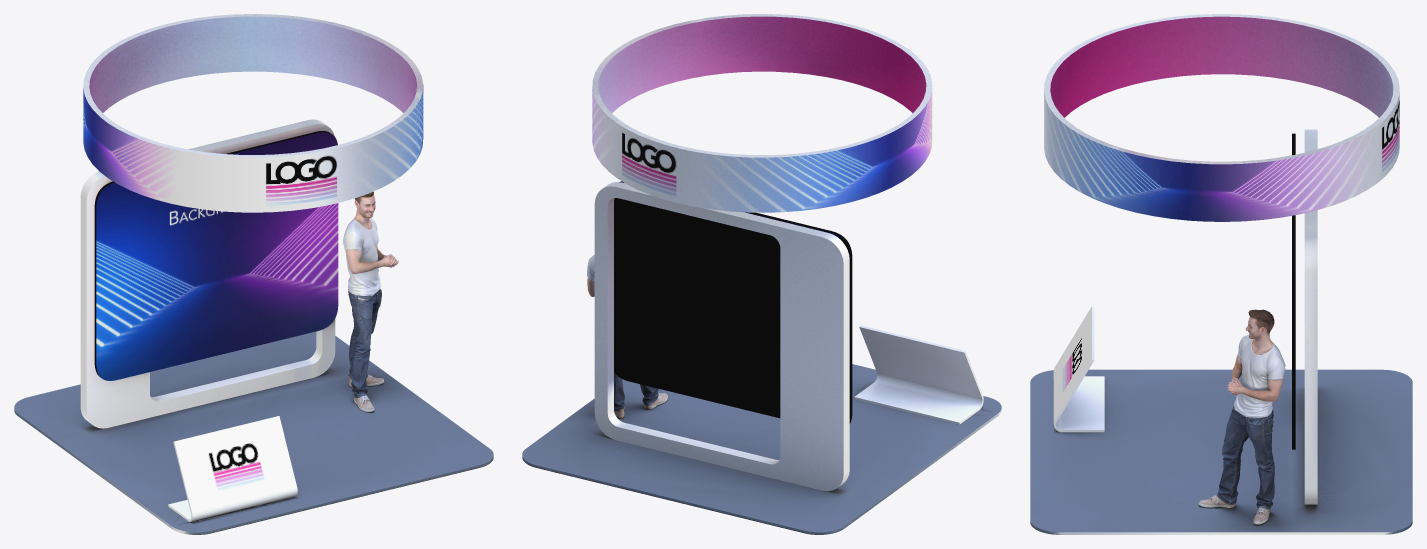
Rendered from osasto_pienempi(1).glb.
The picture shows the model from 3 angles, left to right: view 1: azimuth 30°, elevation 25°; view 2: azimuth 150°, elevation 25°; view 3: azimuth 270°, elevation 25°; orthographic projection. The views are drawn at different scales.
Parts seen in each view (by area): view 1: Shape001, Tube003, Box002, Rectangle001, Line001, RP_Man_Aaron_0402_30k; view 2: Tube003, Shape001, Box002, Rectangle001, Line001, RP_Man_Aaron_0402_30k; view 3: Shape001, Tube003, RP_Man_Aaron_0402_30k, Line001, Rectangle001, Box002.
Part boxes in pixels (bbox=[...]): Shape001: bbox=[14, 331, 493, 534]; Tube003: bbox=[83, 14, 423, 212]; Box002: bbox=[94, 131, 338, 380]; Rectangle001: bbox=[80, 119, 335, 428]; Line001: bbox=[168, 416, 297, 521]; RP_Man_Aaron_0402_30k: bbox=[343, 191, 398, 412]; Tube003: bbox=[592, 14, 932, 212]; Shape001: bbox=[522, 364, 1001, 534]; Box002: bbox=[614, 181, 852, 423]; Rectangle001: bbox=[594, 182, 849, 491]; Line001: bbox=[854, 325, 983, 424]; RP_Man_Aaron_0402_30k: bbox=[587, 255, 667, 418]; Shape001: bbox=[1030, 369, 1412, 534]; Tube003: bbox=[1044, 14, 1399, 221]; RP_Man_Aaron_0402_30k: bbox=[1198, 309, 1285, 524]; Line001: bbox=[1053, 306, 1104, 432]; Rectangle001: bbox=[1304, 129, 1317, 504]; Box002: bbox=[1292, 133, 1295, 449].
Size of what is drawn, in the model's own units: 3.02 by 3.16 by 3.01.
6 materials, 6 textured.
